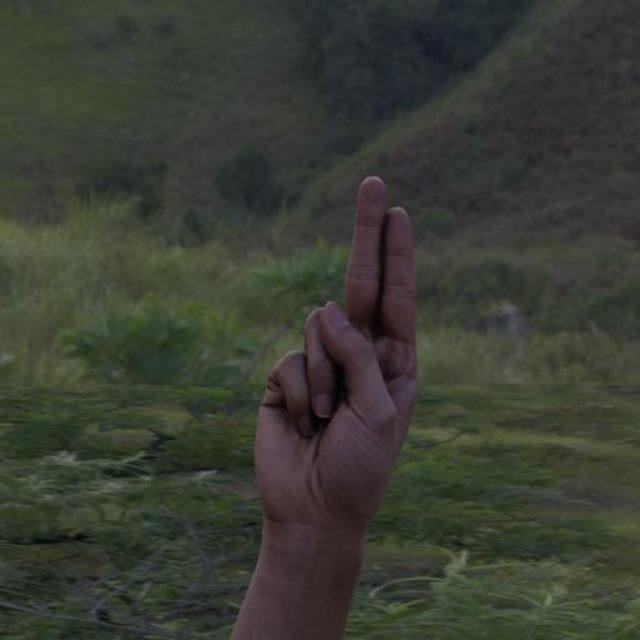U: (244, 162, 420, 558)
